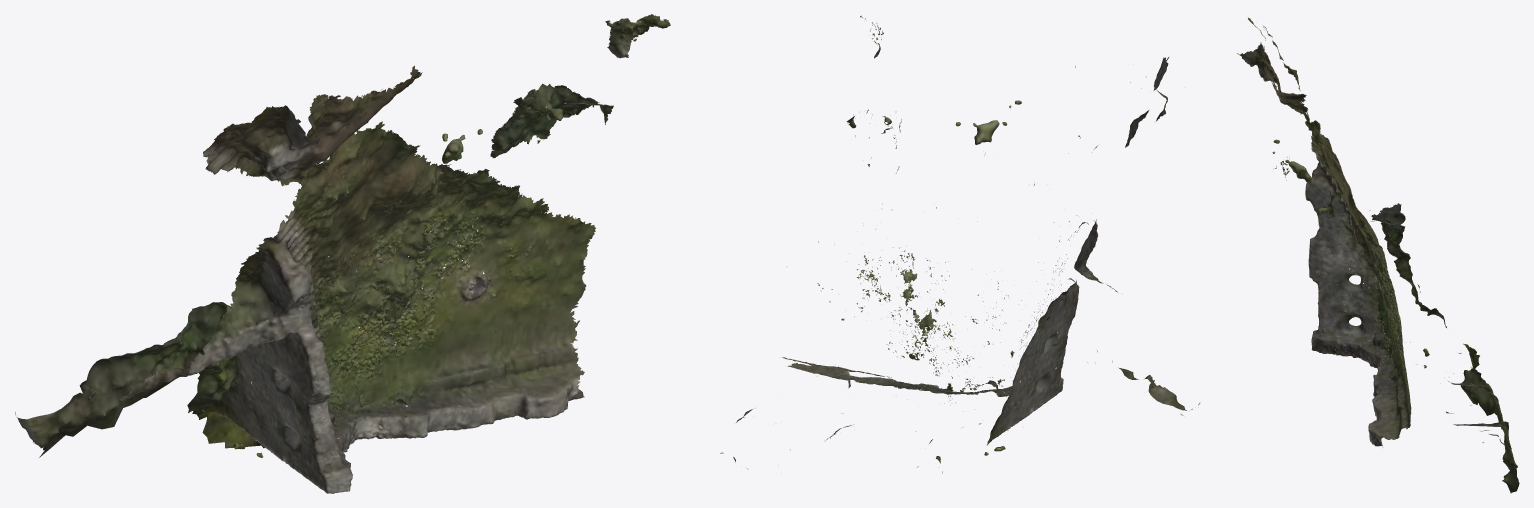
3 renders of one model, left to right at view 1: azimuth 30°, elevation 25°; view 2: azimuth 150°, elevation 25°; view 3: azimuth 270°, elevation 25°, orthographic. The views are drawn at different scales.
Bounding box in the file's own units: 22.03 × 18.94 × 14.37.
Materials: 1 (1 with a texture image).
